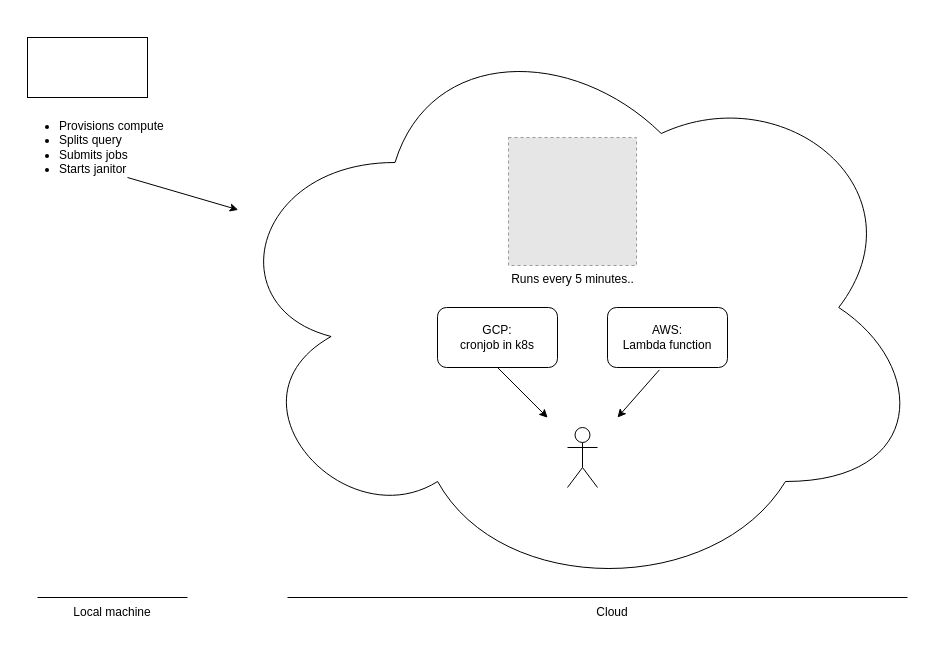
Image size: 945x645. Some labels were removed from this diagram. Grey dashed boxes stand in for pictures. The shapes that lost their labels are listed below. From the top down, each one's centre as x and y in pixels, then its label:
At (87,67): "ElasticBLAST submit".
At (582,457): "ElasticBLAST Janitor code".
